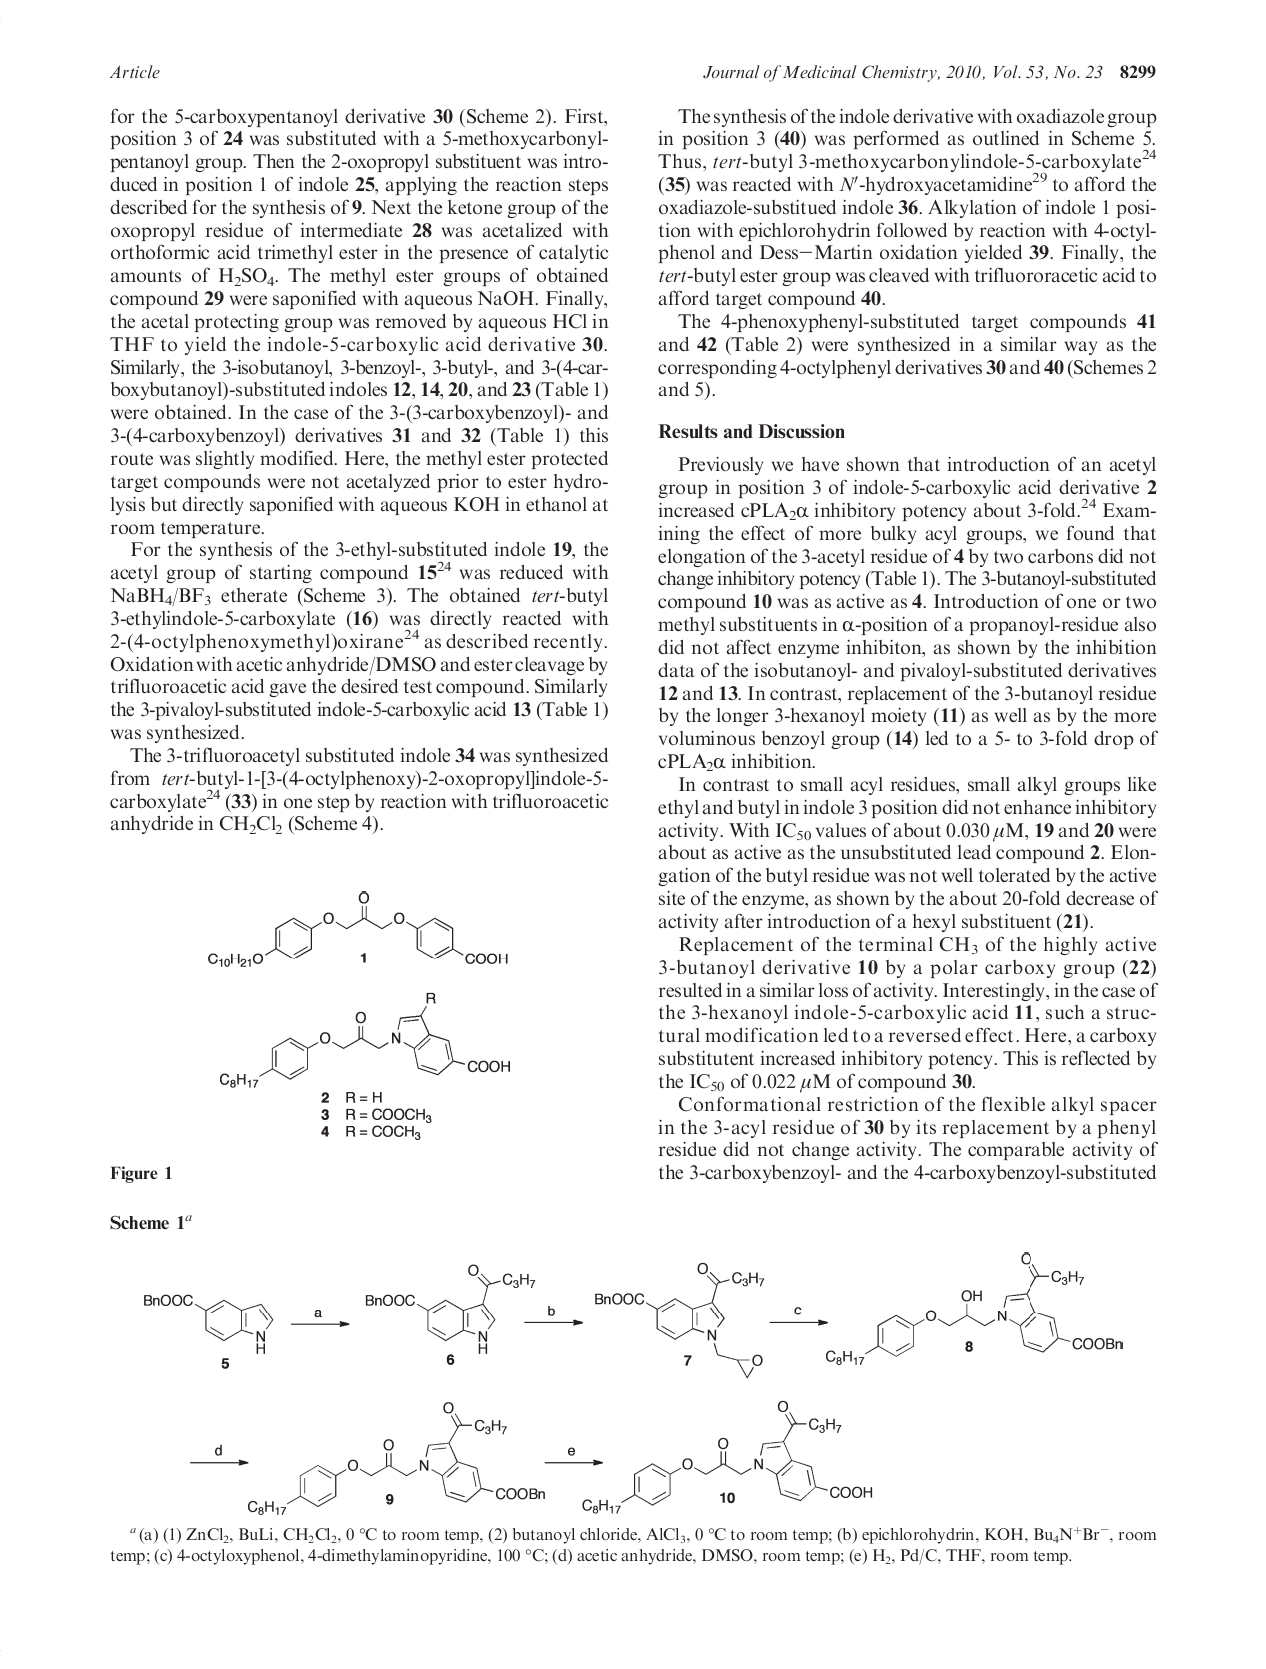exist_molecular: (824, 1249, 1126, 1367), (246, 1400, 547, 1515), (578, 1399, 875, 1513), (218, 991, 513, 1091), (207, 888, 512, 968), (592, 1258, 769, 1380), (364, 1263, 536, 1356), (142, 1291, 277, 1356)
